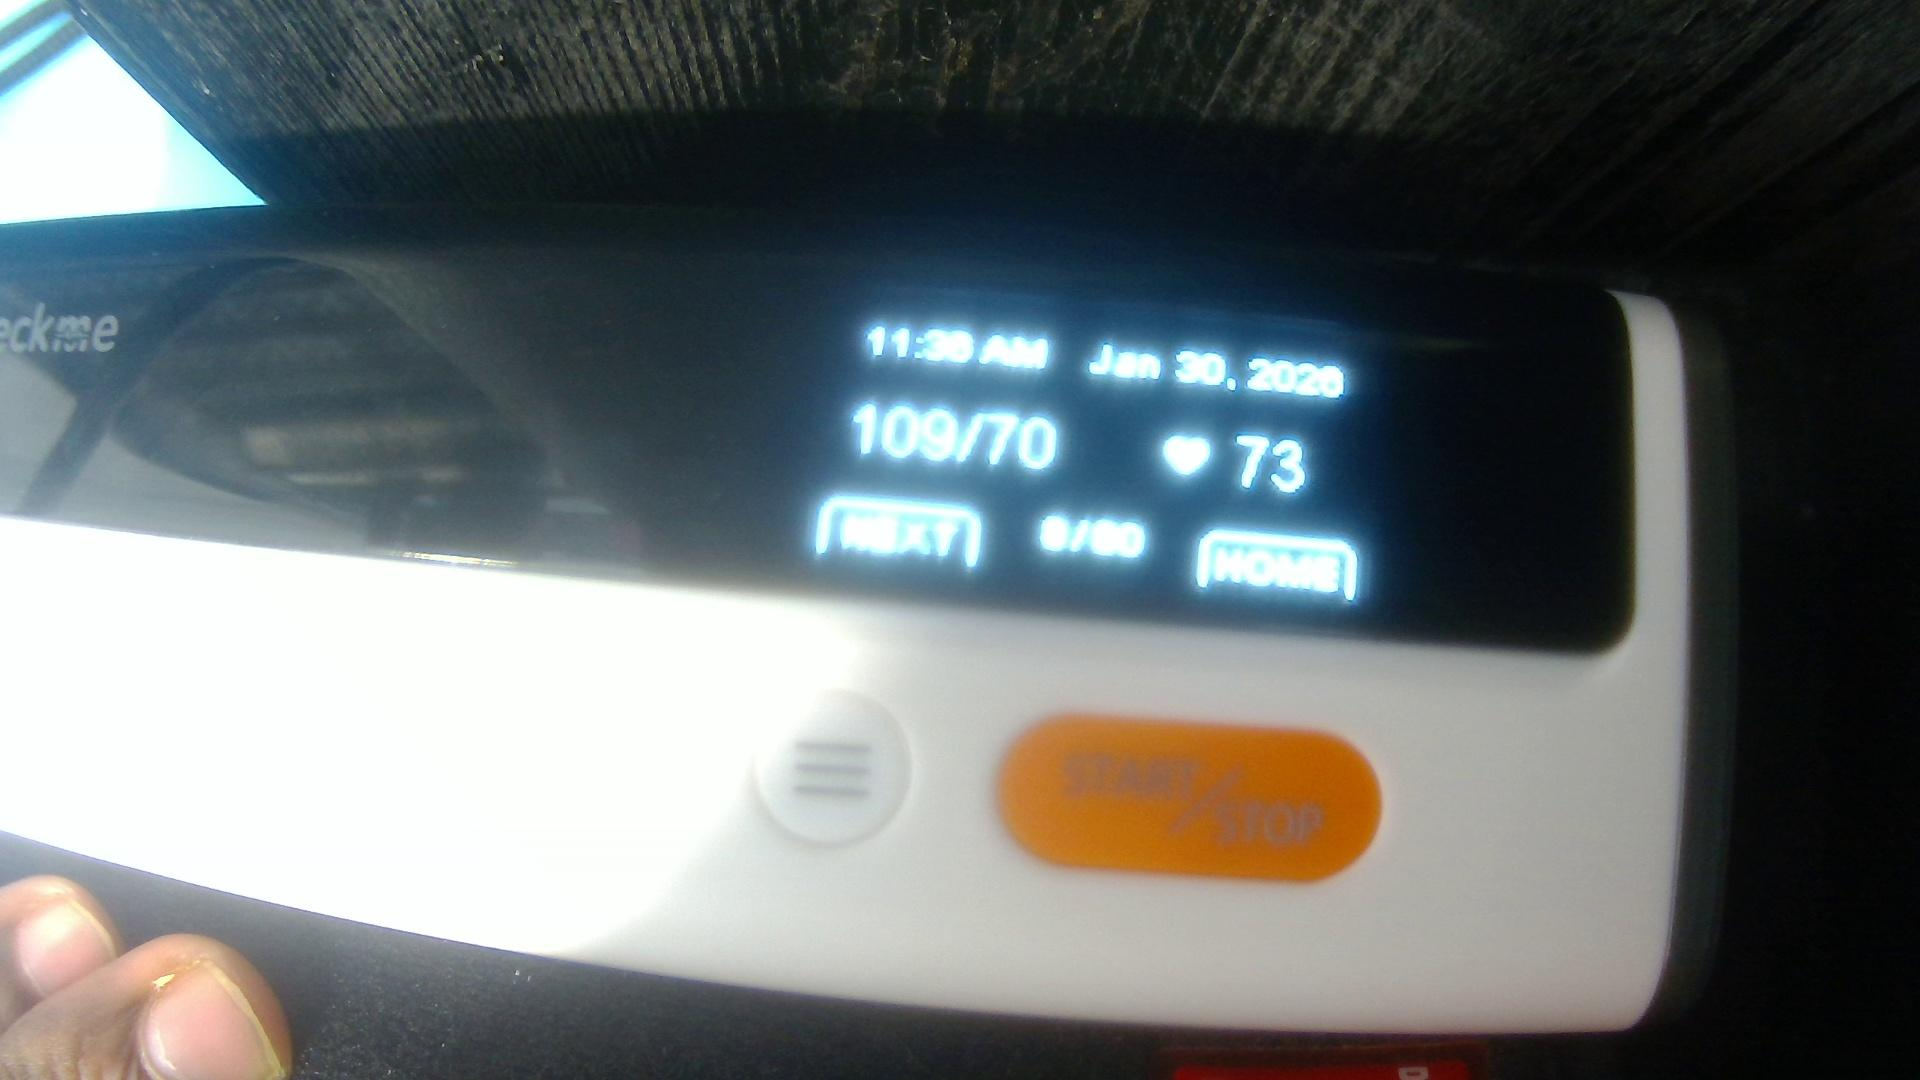DISPLAY: (4, 223, 1622, 645)
